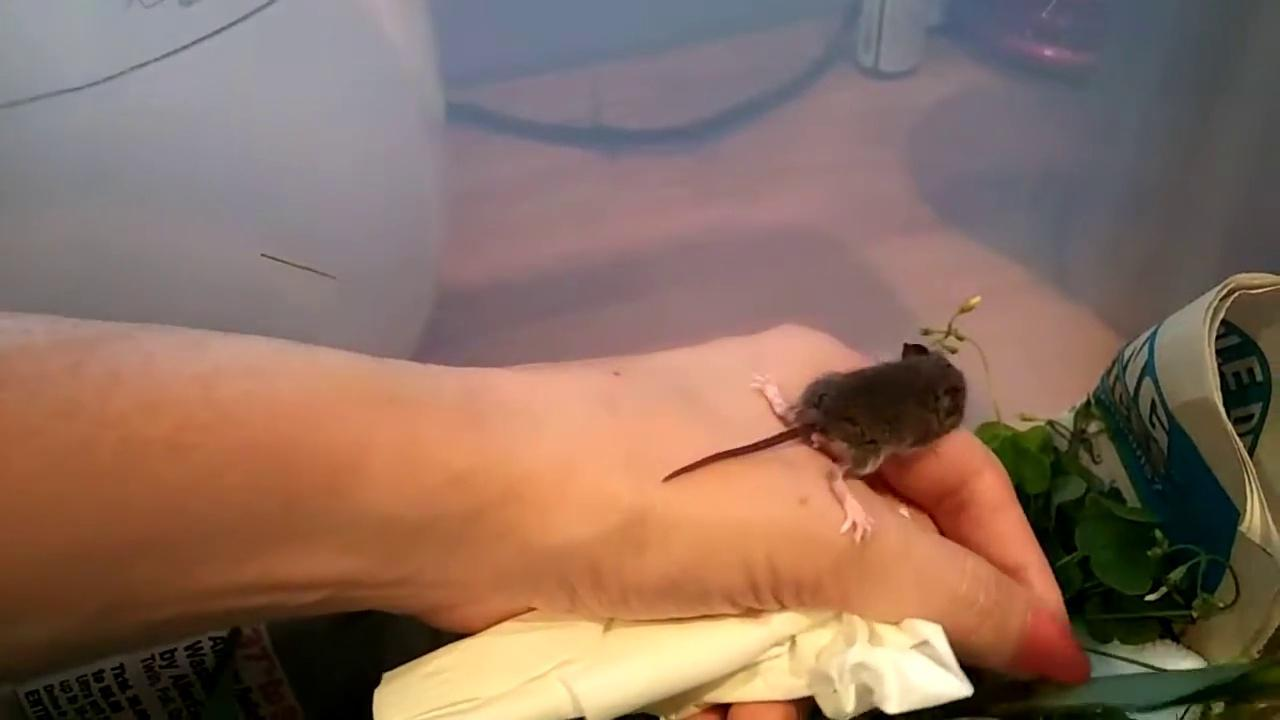rat: (746, 340, 968, 542)
